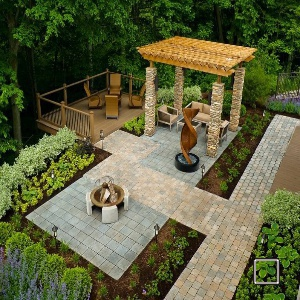square: (252, 257, 282, 286)
